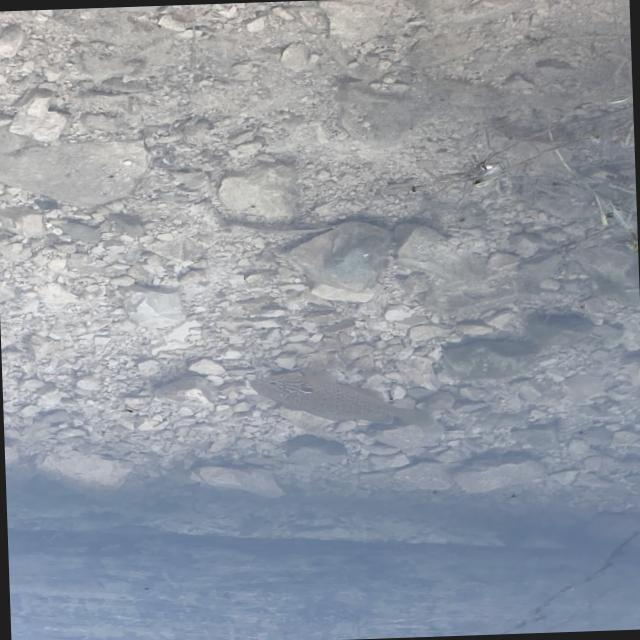Gunes Levregi: (248, 360, 440, 438)
